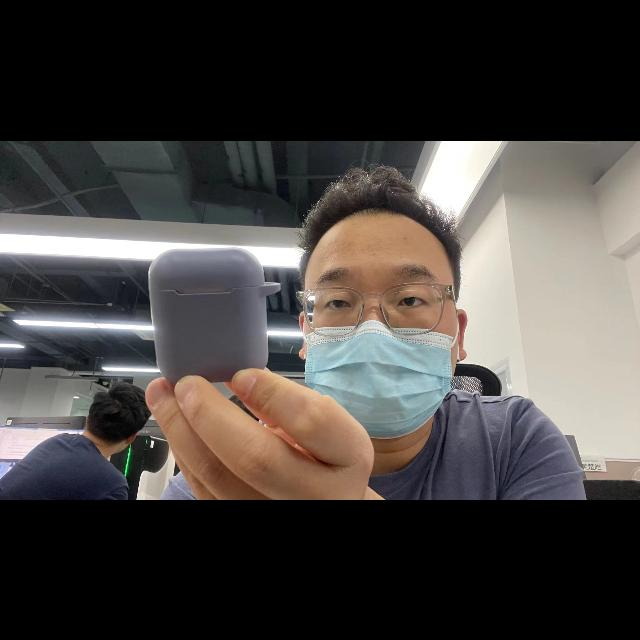airpods: (147, 247, 281, 382)
